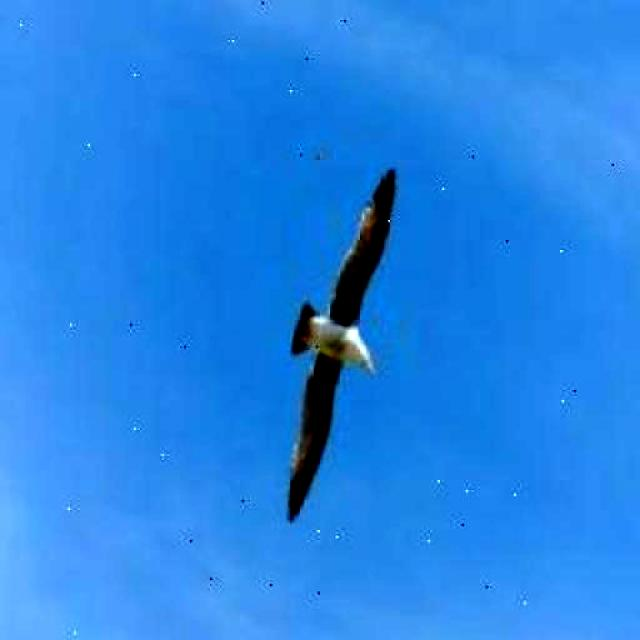airplane: (271, 158, 401, 530)
